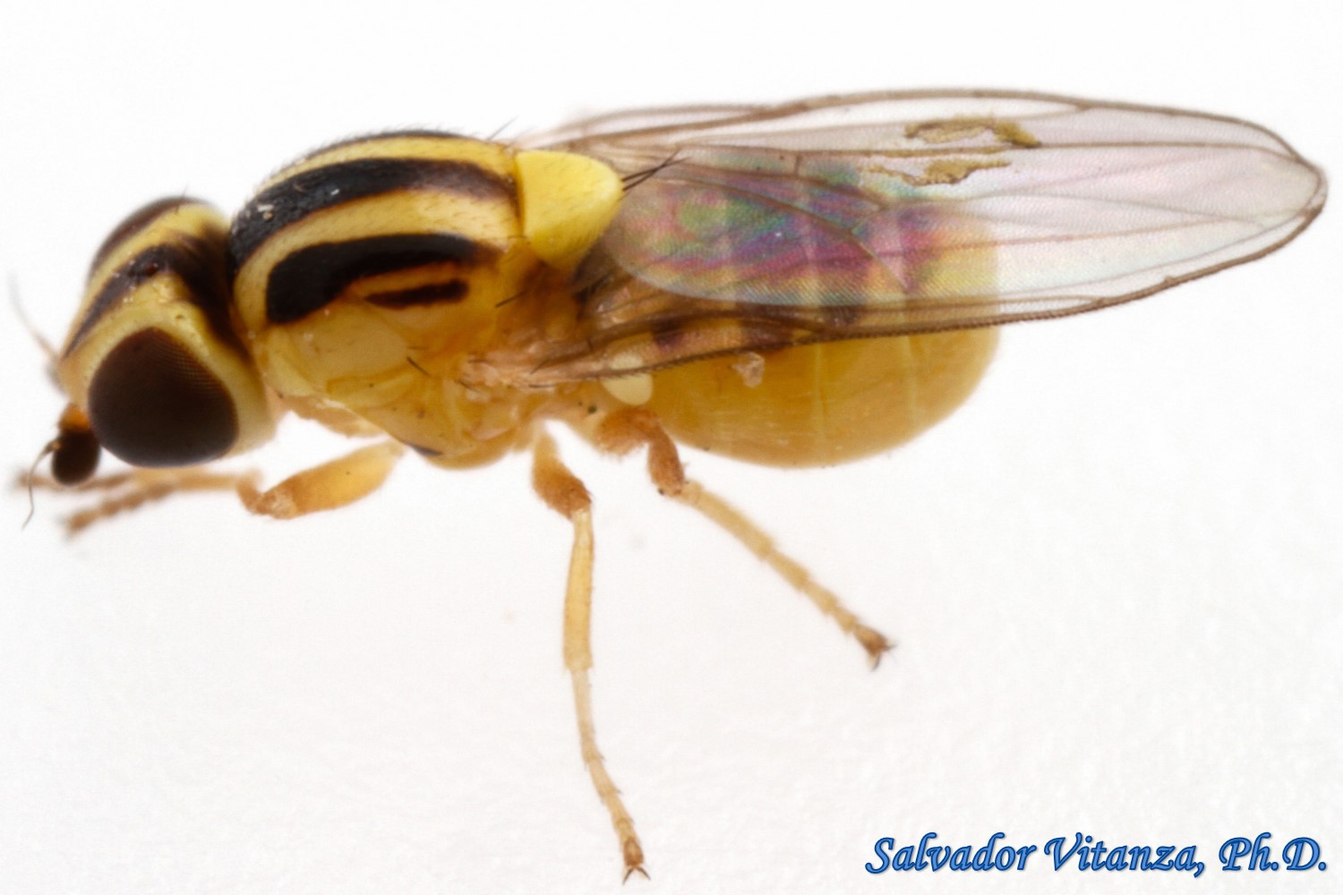Chloropidae: (24, 74, 1328, 866)
